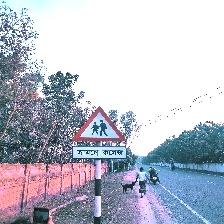College-in-front: (76, 104, 141, 162)
